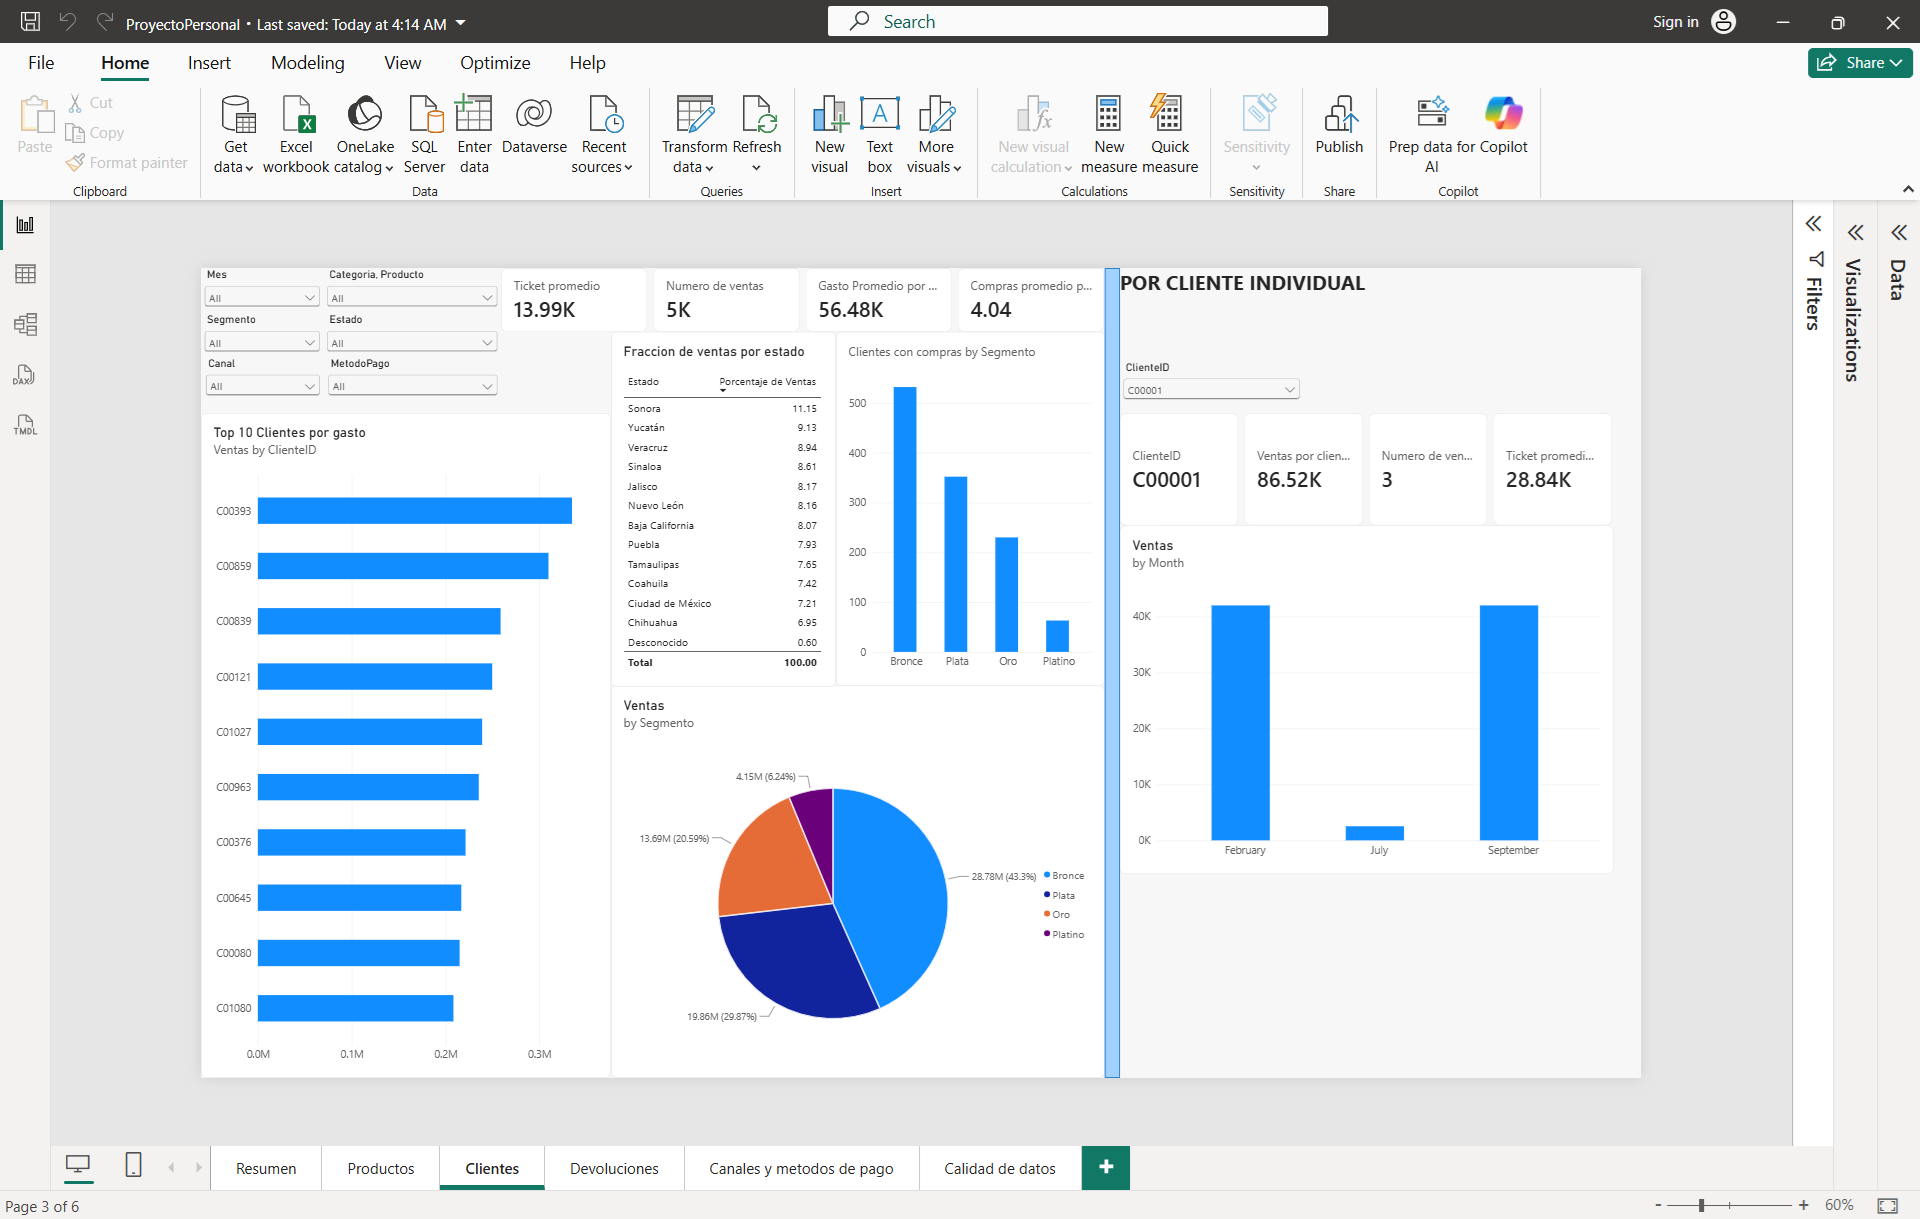

Layout of this report page (visuals, bound fields, positions):
{"tool":"powerbi","page":{"name":"Clientes","canvas":[1920,1080],"ordinal":2},"visuals":[{"type":"clusteredBarChart","title":"Top 10 Clientes por gasto","fields":{"Category":["VentasLimpias.ClienteID"],"Y":["VentasLimpias.Ventas Dinamicas"]},"box":[0,193.3,546.7,886.7],"z":0},{"type":"pieChart","fields":{"Category":["ClientesLimpios.Segmento"],"Y":["VentasLimpias.Ventas Dinamicas"]},"box":[546.7,556.7,658.3,523.3],"z":1000},{"type":"tableEx","title":"Fraccion de ventas por estado","fields":{"Values":["ClientesLimpios.Estado","VentasLimpias.Porcentaje de Ventas"]},"box":[546.7,85,300,473.3],"z":2000},{"type":"clusteredColumnChart","fields":{"Category":["ClientesLimpios.Segmento"],"Y":["VentasLimpias.Clientes con Compras dinamico"]},"box":[846.7,85,358.3,471.7],"z":3000},{"type":"slicer","fields":{"Values":["Productos.Categoria","Productos.Producto"]},"box":[162.8,0,236.7,115],"z":4000},{"type":"slicer","fields":{"Values":["ClientesLimpios.Estado"]},"box":[162.8,60,236.7,95],"z":5000},{"type":"slicer","fields":{"Values":["ClientesLimpios.Segmento"]},"box":[0,60,163.3,220],"z":6000},{"type":"cardVisual","fields":{"Data":["VentasLimpias.Ticket promedio dinamico","VentasLimpias.Numero de ventas dinamico","VentasLimpias.Gasto Promedio por Cliente","VentasLimpias.Compras promedio por cliente"]},"box":[400,0,805,85],"z":7000},{"type":"slicer","fields":{"Values":["VentasLimpias.Mes"]},"box":[0,0,163.3,81.1],"z":8000},{"type":"slicer","fields":{"Values":["VentasLimpias.Canal"]},"box":[2.2,118.9,161.7,150],"z":9000},{"type":"slicer","fields":{"Values":["VentasLimpias.MetodoPago"]},"box":[164.4,118.3,235,75],"z":10000},{"type":"slicer","fields":{"Values":["VentasLimpias.ClienteID"]},"box":[1225,123.3,245,70],"z":11000},{"type":"clusteredColumnChart","fields":{"Category":["VentasLimpias.FechaVenta.Variation.Date Hierarchy.Month"],"Y":["VentasLimpias.Ventas Dinamicas"]},"box":[1225,343.3,658.3,465],"z":12000},{"type":"cardVisual","fields":{"Data":["Min(VentasLimpias.ClienteID)","VentasLimpias.Ventas Dinamicas","VentasLimpias.Numero de ventas dinamico","VentasLimpias.Ticket promedio dinamico"]},"box":[1225,193.3,658,150],"z":13000},{"type":"shape","box":[1205,0,20,1080],"z":14000},{"type":"textbox","box":[1225,808,658,272],"z":15000},{"type":"textbox","box":[1225,0,341.7,43.3],"z":16000}]}

Visuals, with their boxes on the page's 1920x1080 design canvas (x1, y1, x2, y2). These are canvas units, not pixel positions in the 1920x1219 screenshot, which may show the page scaled, cropped or inside an application window:
"Top 10 Clientes por gasto" clusteredBarChart: (0, 193, 547, 1080)
pieChart - ClientesLimpios.Segmento x VentasLimpias.Ventas Dinamicas: (547, 557, 1205, 1080)
"Fraccion de ventas por estado" tableEx: (547, 85, 847, 558)
clusteredColumnChart - ClientesLimpios.Segmento x VentasLimpias.Clientes con Compras dinamico: (847, 85, 1205, 557)
slicer - Productos.Categoria x Productos.Producto: (163, 0, 400, 115)
slicer - ClientesLimpios.Estado: (163, 60, 400, 155)
slicer - ClientesLimpios.Segmento: (0, 60, 163, 280)
cardVisual - VentasLimpias.Ticket promedio dinamico x VentasLimpias.Numero de ventas dinamico: (400, 0, 1205, 85)
slicer - VentasLimpias.Mes: (0, 0, 163, 81)
slicer - VentasLimpias.Canal: (2, 119, 164, 269)
slicer - VentasLimpias.MetodoPago: (164, 118, 399, 193)
slicer - VentasLimpias.ClienteID: (1225, 123, 1470, 193)
clusteredColumnChart - VentasLimpias.FechaVenta.Variation.Date Hierarchy.Month x VentasLimpias.Ventas Dinamicas: (1225, 343, 1883, 808)
cardVisual - Min(VentasLimpias.ClienteID) x VentasLimpias.Ventas Dinamicas: (1225, 193, 1883, 343)
shape: (1205, 0, 1225, 1080)
textbox: (1225, 808, 1883, 1080)
textbox: (1225, 0, 1567, 43)
